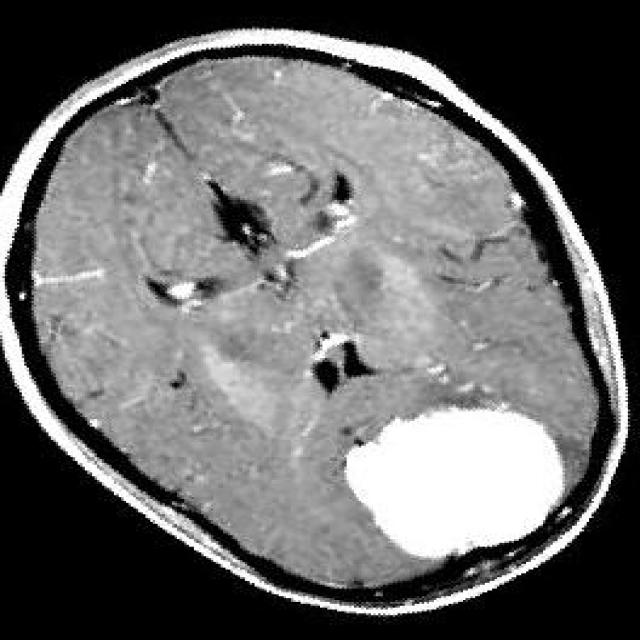Tumor-Cell: (345, 393, 560, 540)
